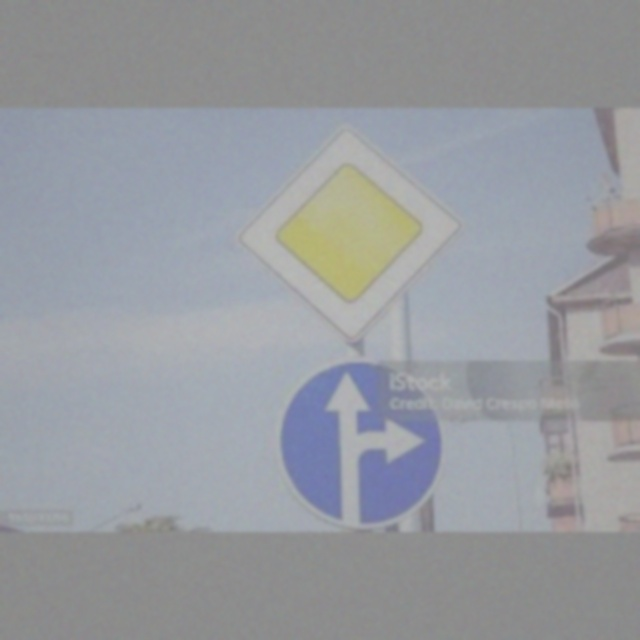Compulsory_Ahead_or_Turn_Right: (279, 360, 437, 523)
